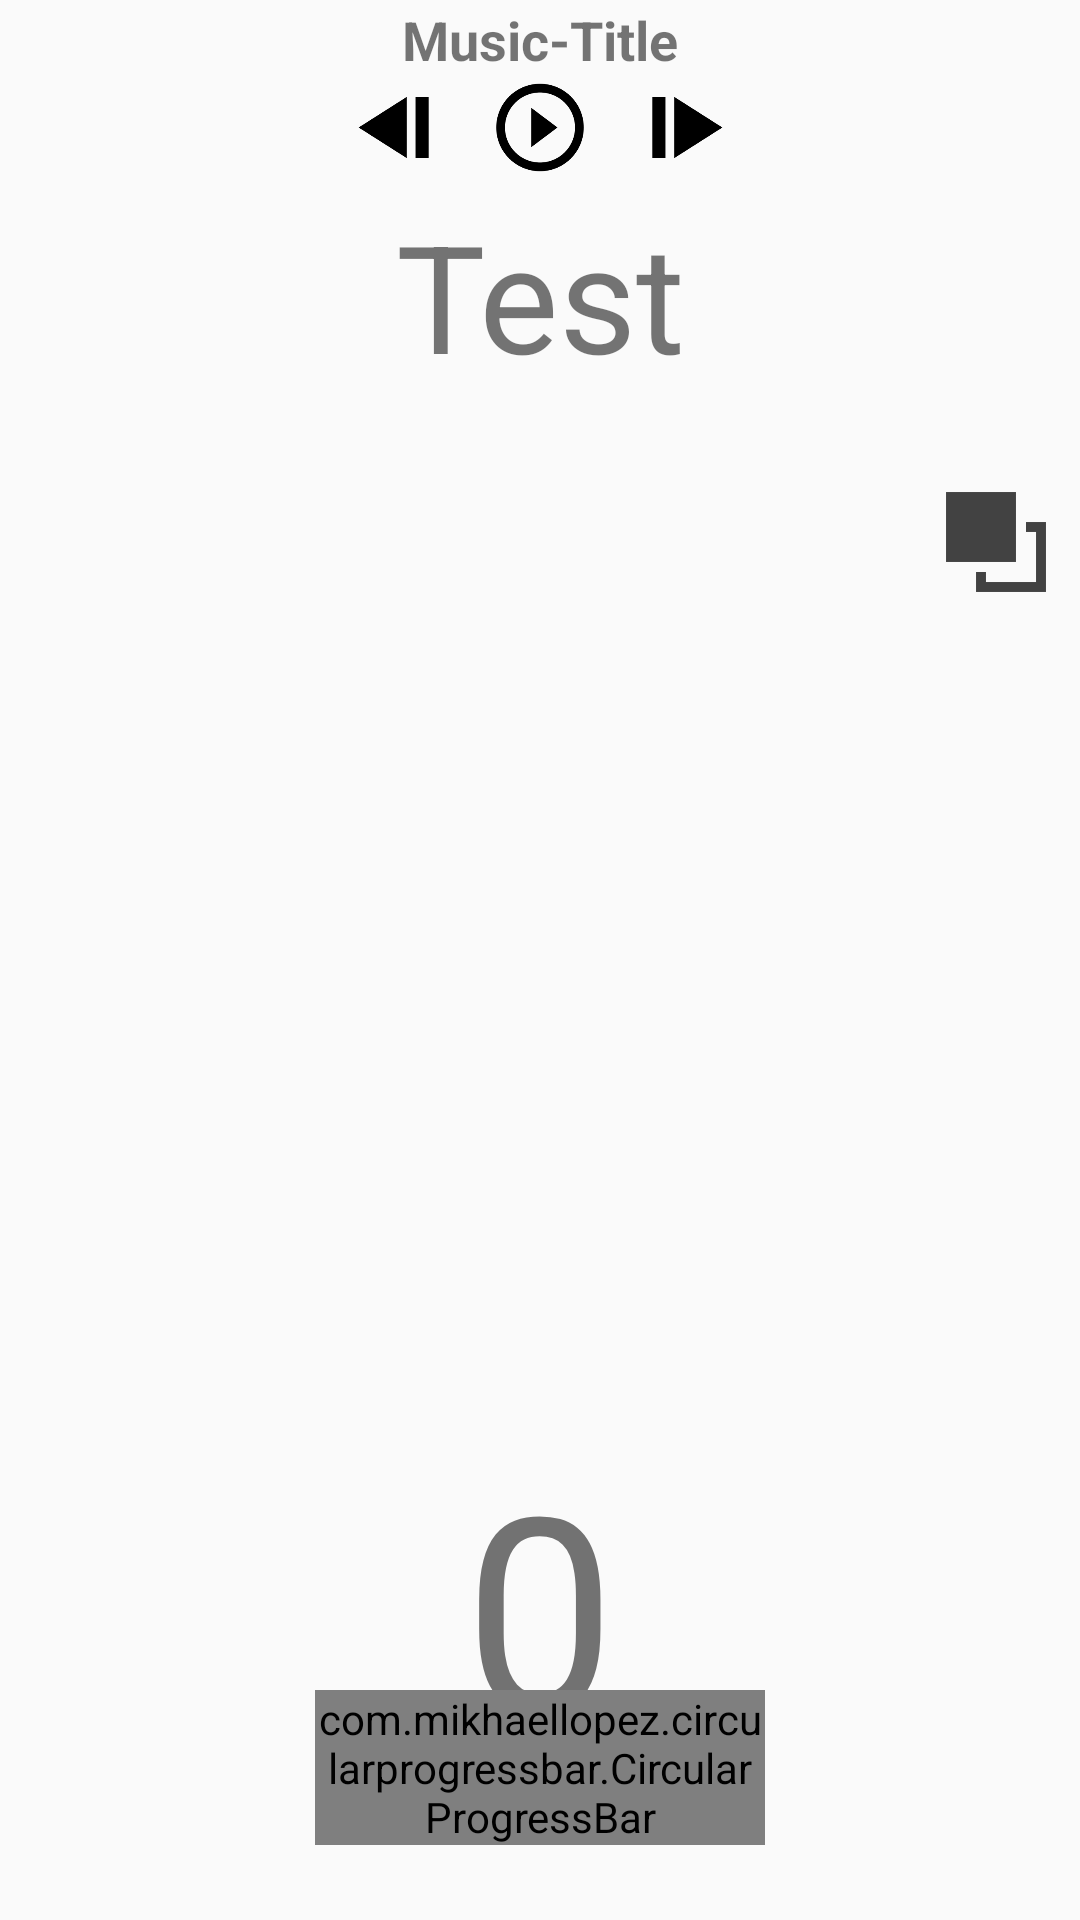

Where icons sit on this 1080px×1920px app screen, as [x1,y1,x2,y2]:
playcircle: [496,83,584,172]
stepbackward: [359,97,429,158]
stepforward: [652,97,722,158]
swappicture: [946,492,1046,592]
